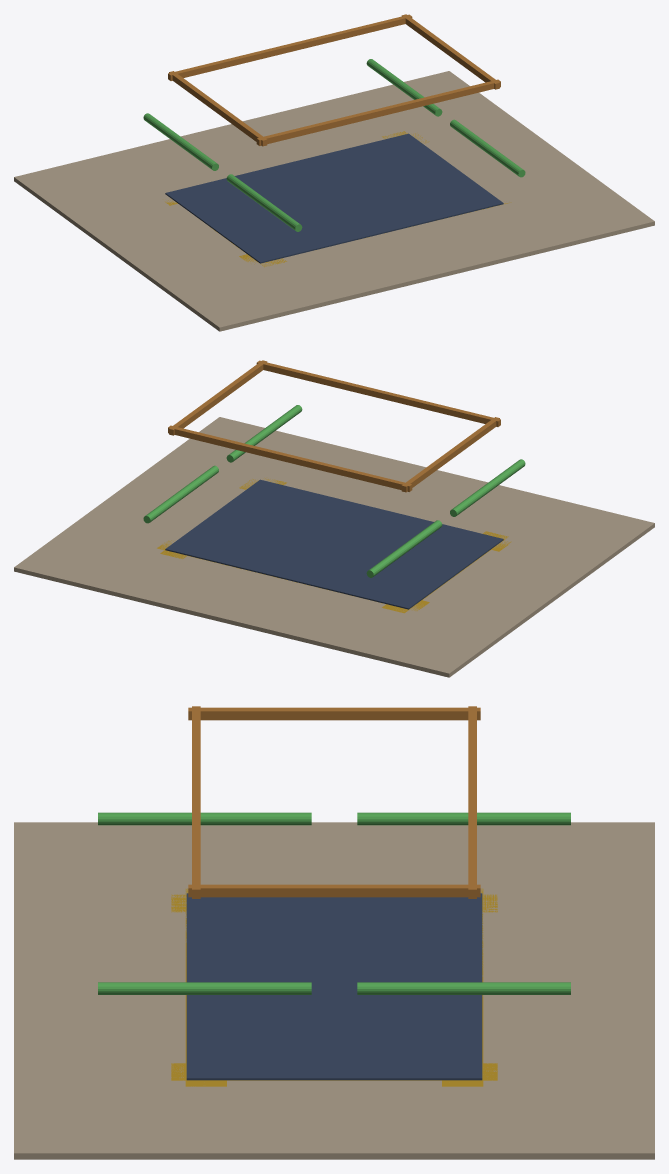
Rendered from stage_05_beams.glb.
The picture shows the model from 3 angles, top to bottom: view 1: azimuth 30°, elevation 25°; view 2: azimuth 150°, elevation 25°; view 3: azimuth 270°, elevation 25°; orthographic projection. The views are drawn at different scales.
Visible parts, largest first — view 1: world; view 2: world; view 3: world.
Boxes of the visible parts, x1,y1,x2,y2 form: world: (14,14,654,331); world: (14,360,654,677); world: (14,706,654,1159).
Size of the model in its own units: 11 by 3.74 by 9.
